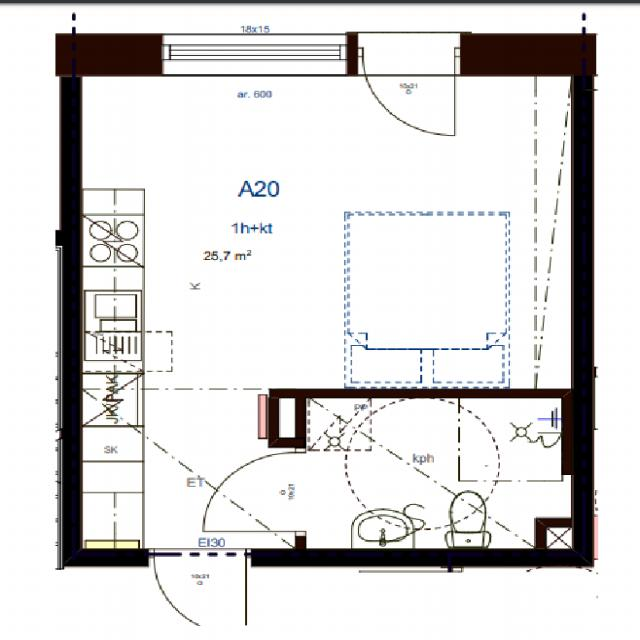door: (364, 34, 454, 154), (155, 548, 244, 640), (204, 453, 306, 531)
